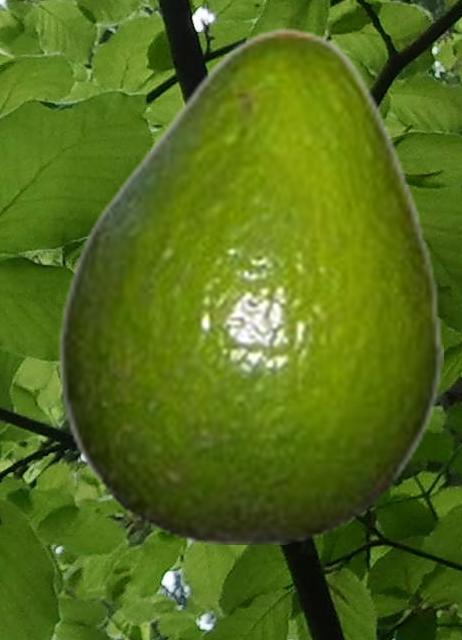avocado: (56, 26, 442, 543)
